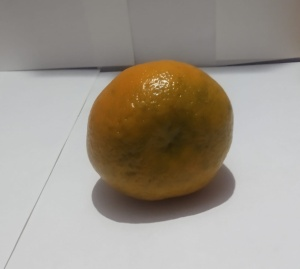BAD: (86, 58, 236, 201)
